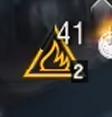2fire: (15, 47, 91, 84)
